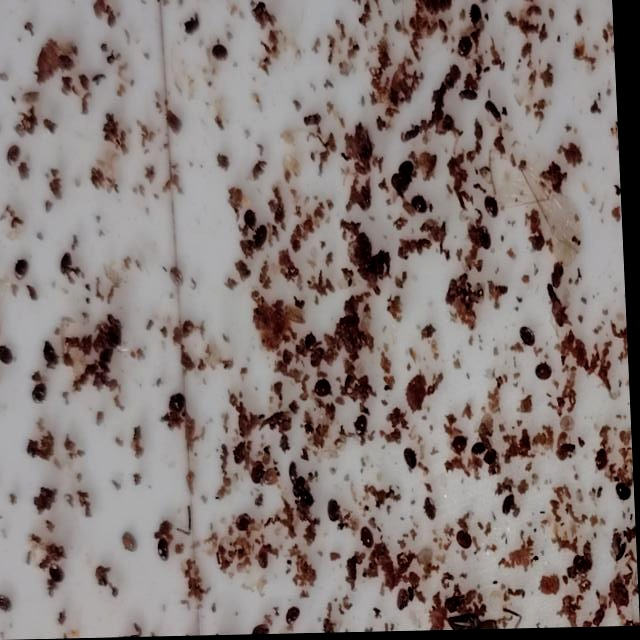varroa: (257, 222, 274, 254), (169, 391, 191, 415), (394, 174, 412, 199), (45, 340, 61, 368), (216, 42, 237, 62), (616, 482, 635, 504), (34, 381, 52, 404), (11, 142, 28, 166), (404, 447, 421, 471), (234, 511, 254, 531), (235, 439, 251, 464), (404, 159, 420, 184), (316, 378, 335, 399), (416, 195, 434, 217), (311, 345, 328, 368), (523, 326, 540, 349), (476, 2, 489, 32), (537, 364, 557, 383), (258, 545, 272, 572), (453, 434, 471, 455), (328, 499, 343, 524), (300, 491, 317, 513), (463, 36, 480, 58), (252, 462, 268, 485), (489, 197, 505, 220), (425, 497, 440, 521), (502, 494, 517, 518), (293, 478, 310, 499), (18, 258, 34, 279), (63, 252, 77, 276), (286, 606, 302, 627), (482, 226, 496, 250), (361, 527, 376, 549), (357, 415, 372, 437), (249, 207, 262, 232), (50, 563, 67, 582), (458, 531, 474, 551), (596, 452, 610, 474), (484, 449, 501, 467), (158, 539, 173, 559), (307, 334, 322, 354), (250, 623, 273, 635), (473, 442, 489, 458), (323, 616, 338, 633)
